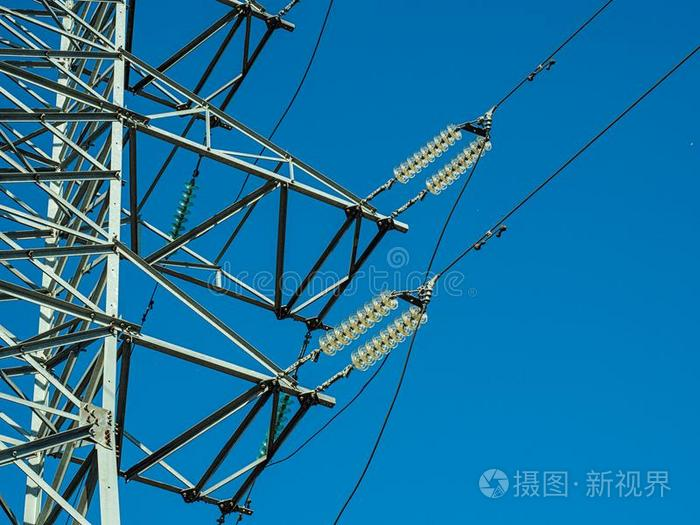insulator: (326, 290, 427, 370), (394, 125, 491, 195), (167, 181, 196, 237)
